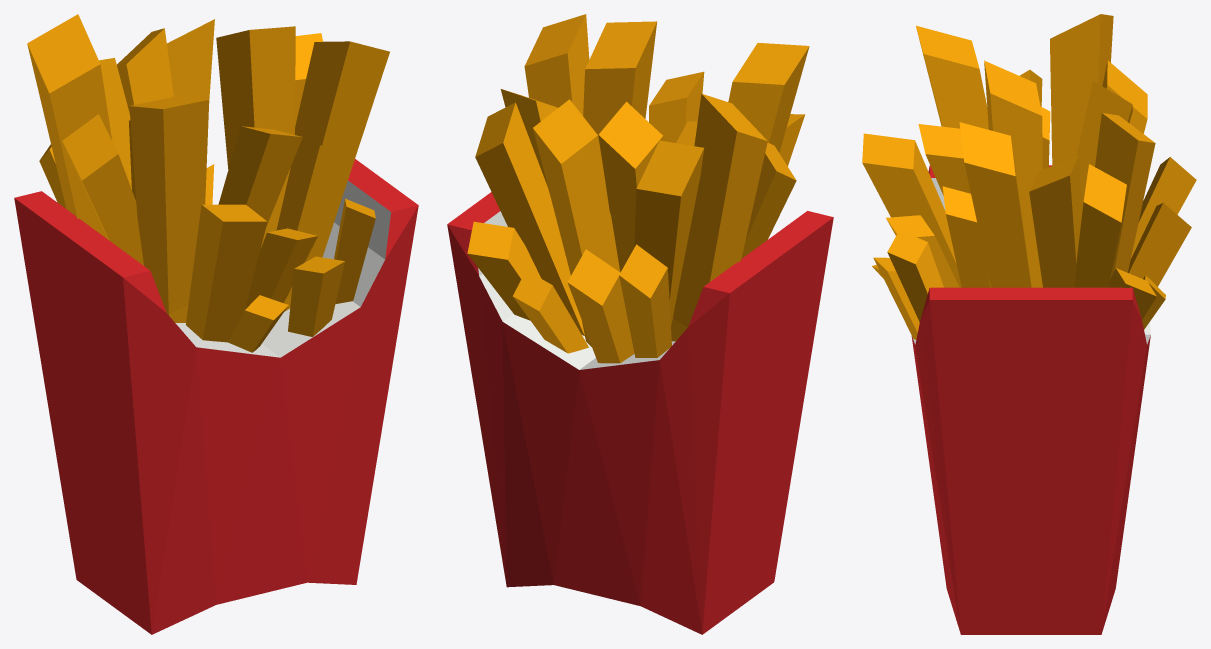
File: potato.FBX
The picture shows the model from 3 angles, left to right: view 1: azimuth 30°, elevation 25°; view 2: azimuth 150°, elevation 25°; view 3: azimuth 270°, elevation 25°; orthographic projection. The views are drawn at different scales.
Visible parts, largest first — view 1: potato; view 2: potato; view 3: potato.
Part boxes in pixels (x1,y1,x2,y2): potato: [14, 14, 418, 634]; potato: [447, 14, 833, 634]; potato: [862, 14, 1196, 634].
Bounding box in the file's own units: 2.13 × 3.89 × 2.22.
